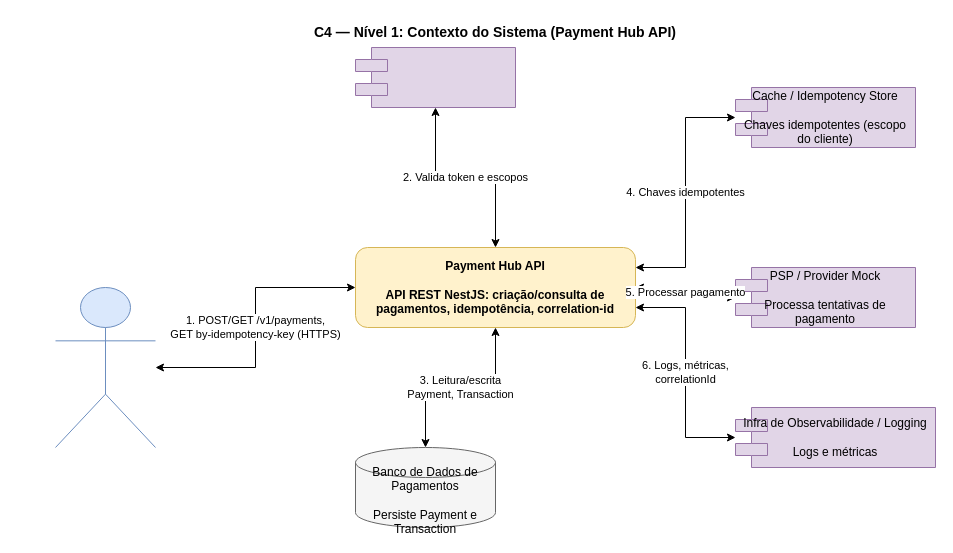
This 953x553 diagram has some shape labels left out. Here are the shapes that lost their labels. From the top down, the centre of each, then its label:
At (x=435, y=77): "Provider de Identidade / Auth Valida tokens Authorization".
At (x=105, y=367): "Cliente da API Sistemas que consomem a API (e-commerce, BFF, etc.)".
